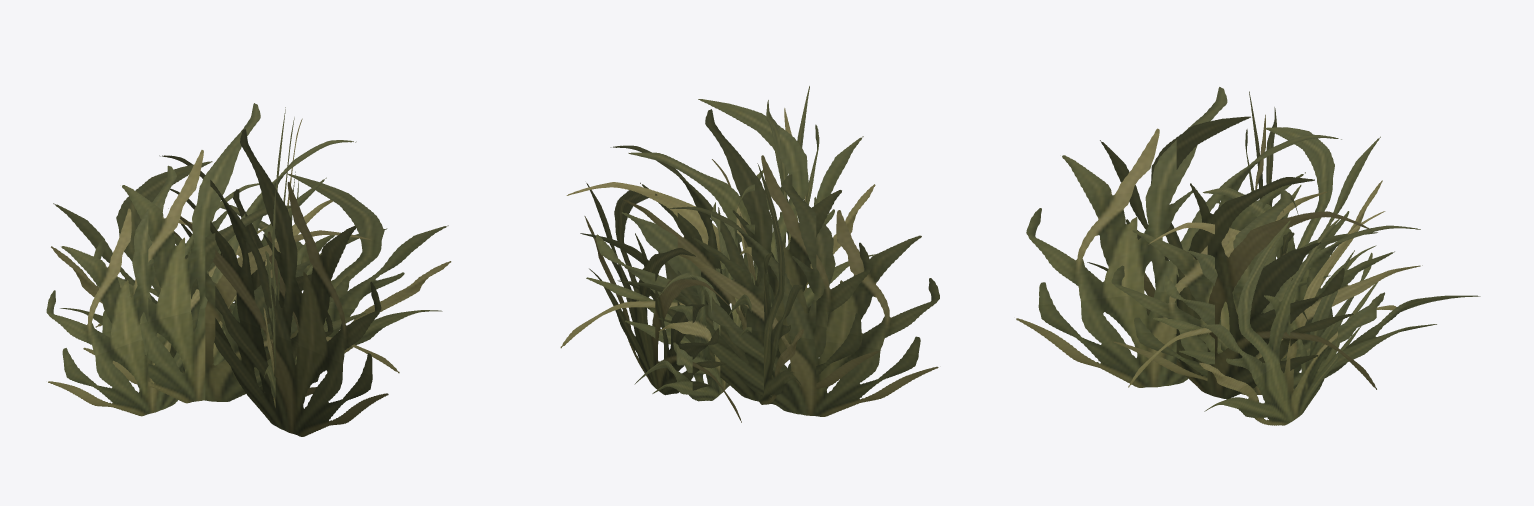
File: grass_patch_large.glb
3 views of the same model, side by side, from view 1: azimuth 30°, elevation 25°; view 2: azimuth 150°, elevation 25°; view 3: azimuth 270°, elevation 25° (orthographic). The views are drawn at different scales.
Parts seen in each view (by area): view 1: outdoor_grass_patch_large; view 2: outdoor_grass_patch_large; view 3: outdoor_grass_patch_large.
Part boxes in pixels (x1,y1,x2,y2): outdoor_grass_patch_large: (46, 103, 451, 436); outdoor_grass_patch_large: (560, 86, 939, 422); outdoor_grass_patch_large: (1016, 87, 1480, 425).
Size of the model in its own units: 0.95 by 0.62 by 0.95.
Materials: 1 (1 with a texture image).
